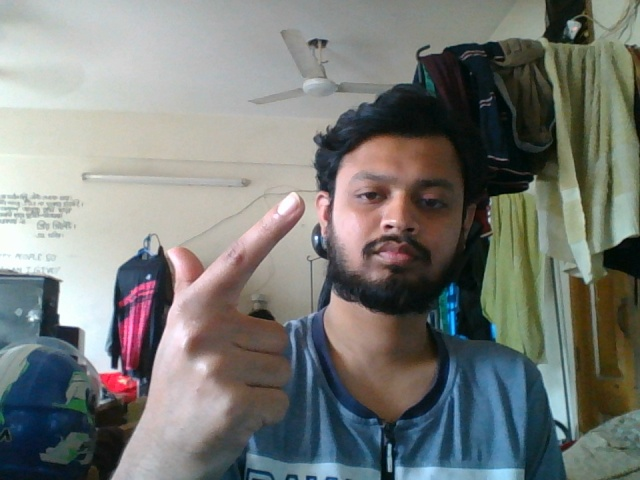tho: (138, 182, 310, 465)
